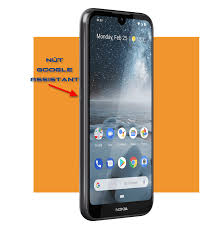nokia: (76, 6, 155, 220)
